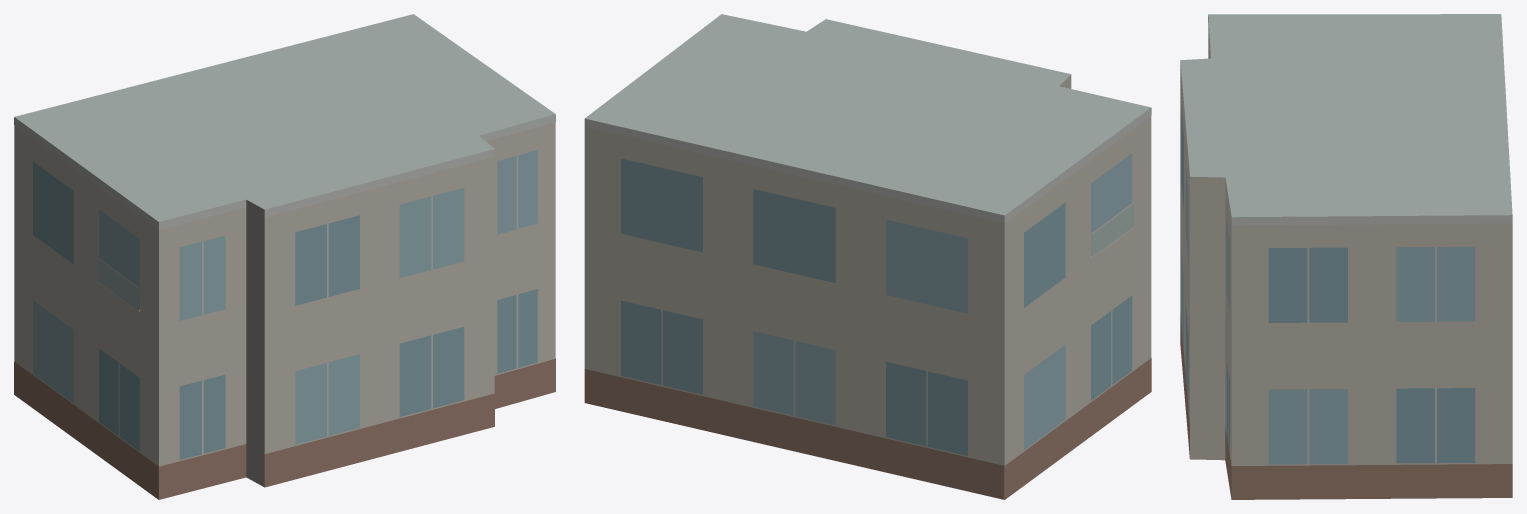
File: survey-upis-32493113.glb
3 views of the same model, side by side, from view 1: azimuth 30°, elevation 25°; view 2: azimuth 150°, elevation 25°; view 3: azimuth 270°, elevation 25° (orthographic). The views are drawn at different scales.
Visible parts, largest first — view 1: survey-upis-32493113.tmp; view 2: survey-upis-32493113.tmp; view 3: survey-upis-32493113.tmp.
Part boxes in pixels (x1,y1,x2,y2): survey-upis-32493113.tmp: (14,14,555,499); survey-upis-32493113.tmp: (584,14,1151,499); survey-upis-32493113.tmp: (1180,14,1512,499).
Size of the model in its own units: 13.13 by 8.5 by 9.06.
